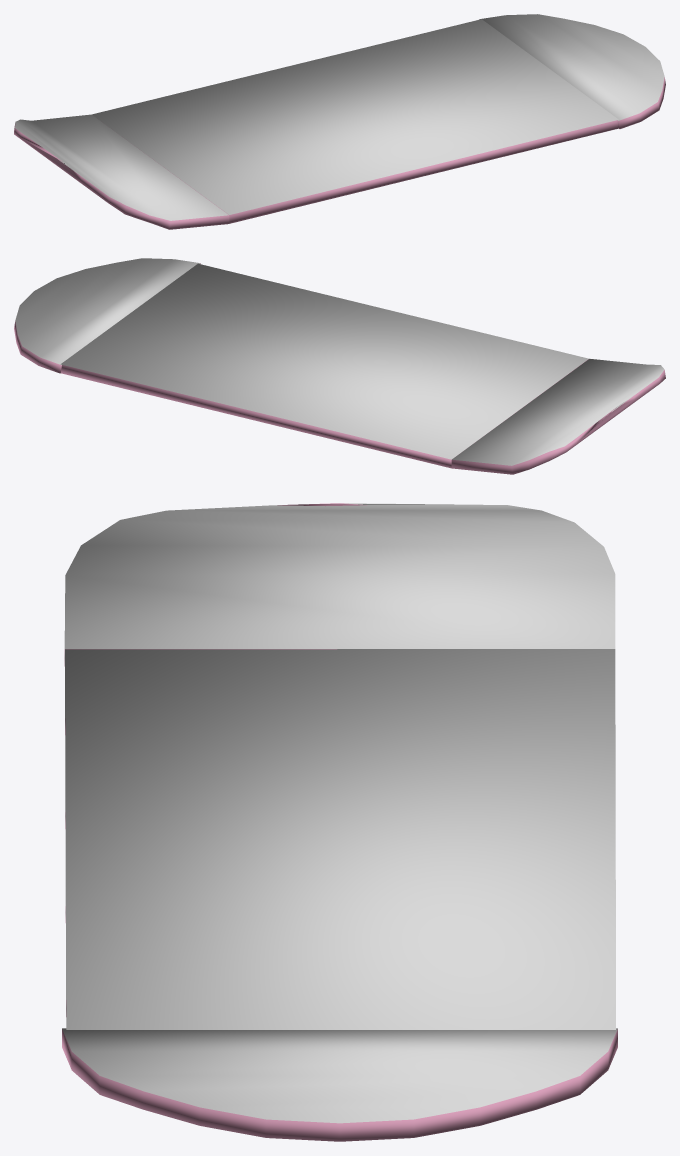
The model's file is hoverboard.fbx.
3 renders of one model, top to bottom at view 1: azimuth 30°, elevation 25°; view 2: azimuth 150°, elevation 25°; view 3: azimuth 270°, elevation 25°, orthographic. The views are drawn at different scales.
Parts seen in each view (by area): view 1: wood-board; view 2: wood-board; view 3: wood-board.
Boxes of the visible parts, box(x1,y1,x2,y2) form: wood-board: box(14, 14, 665, 229); wood-board: box(14, 258, 665, 474); wood-board: box(62, 503, 617, 1141).
Size of the model in its own units: 0.8968 by 0.0511 by 0.3695.
